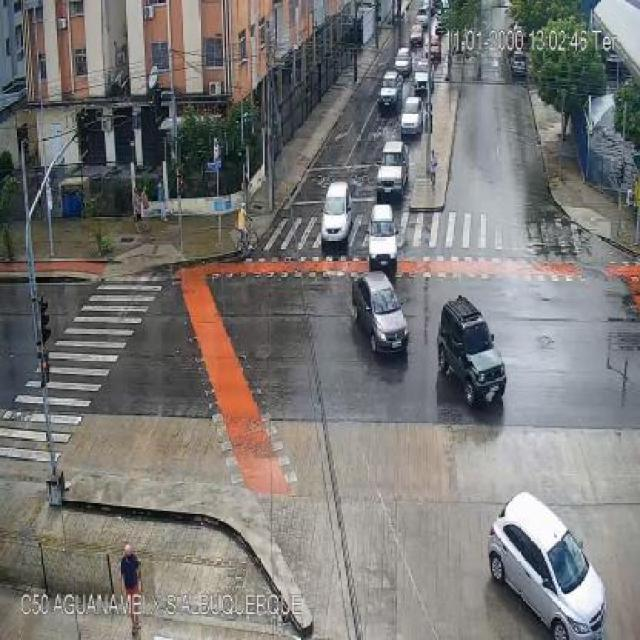car: (490, 492, 605, 640), (438, 296, 506, 406), (352, 272, 409, 352), (321, 181, 352, 252), (369, 204, 398, 279), (376, 141, 408, 202), (379, 70, 402, 109), (401, 96, 422, 136), (121, 554, 140, 589)
